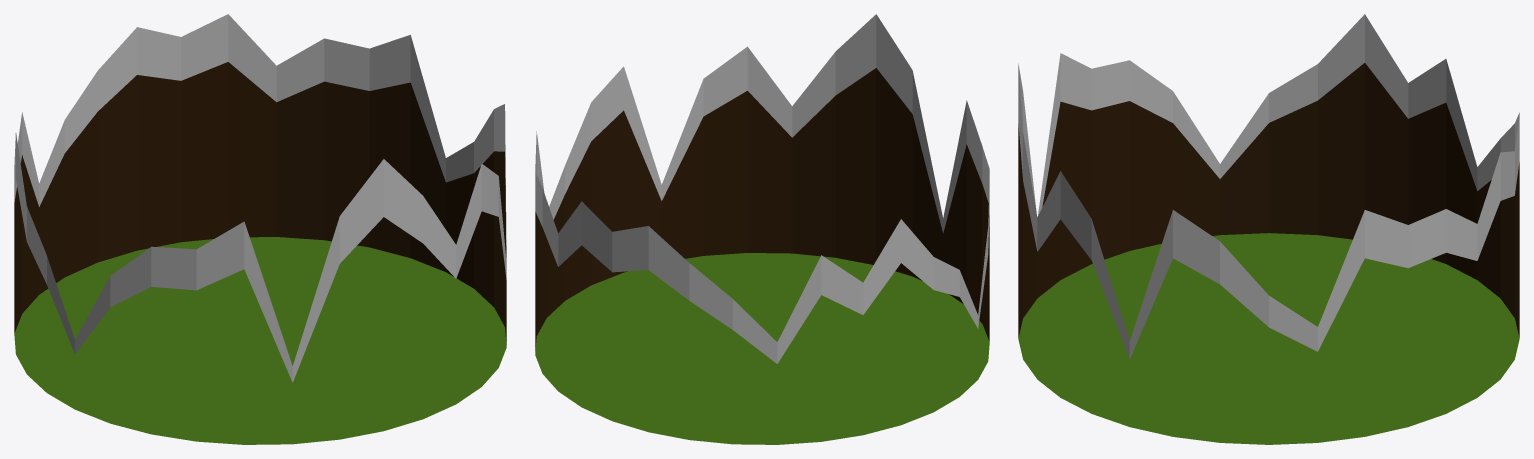
Rendered from Mount (1).fbx.
3 renders of one model, left to right at view 1: azimuth 30°, elevation 25°; view 2: azimuth 150°, elevation 25°; view 3: azimuth 270°, elevation 25°, orthographic. The views are drawn at different scales.
Visible parts, largest first — view 1: Mount, Ground; view 2: Mount, Ground; view 3: Mount, Ground.
Boxes of the visible parts, x1,y1,x2,y2 form: Mount: [14, 14, 506, 382]; Ground: [14, 237, 506, 444]; Mount: [535, 14, 989, 363]; Ground: [535, 253, 989, 444]; Mount: [1018, 14, 1519, 359]; Ground: [1018, 233, 1519, 444].
Size of the model in its own units: 200 by 200 by 122.
